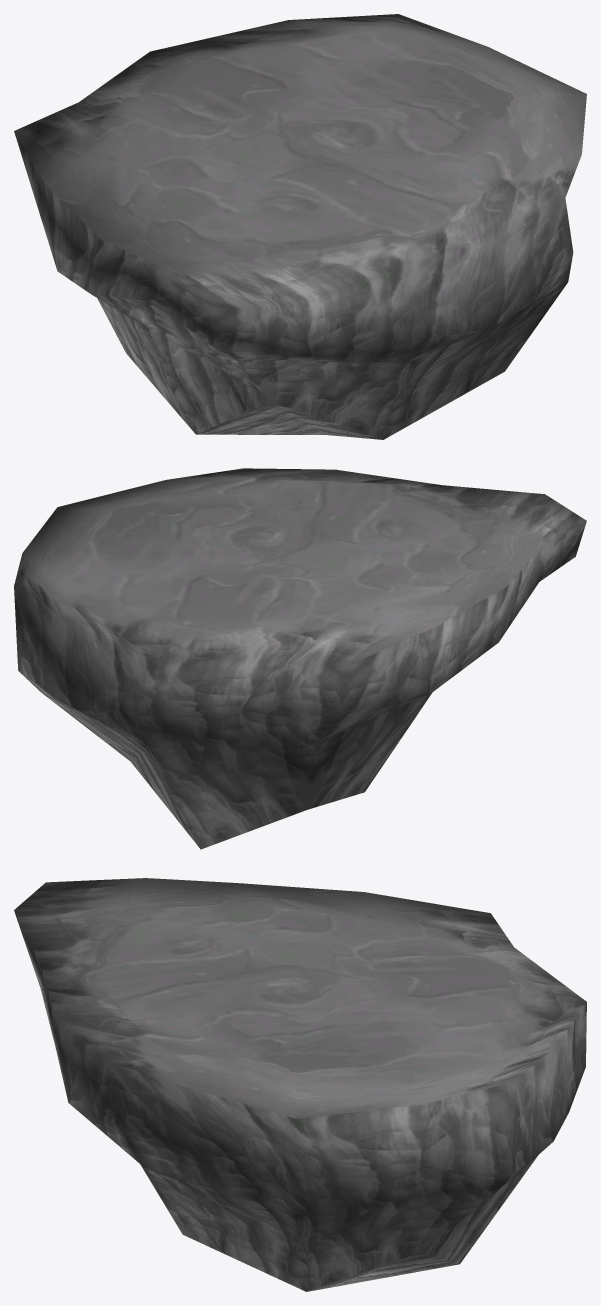
File: INST_SWORDLIGHT_ROCKPLATA.fbx
3 renders of one model, top to bottom at view 1: azimuth 30°, elevation 25°; view 2: azimuth 150°, elevation 25°; view 3: azimuth 270°, elevation 25°, orthographic. The views are drawn at different scales.
Visible parts, largest first — view 1: INST_SWORDLIGHT_ROCKPLATA; view 2: INST_SWORDLIGHT_ROCKPLATA; view 3: INST_SWORDLIGHT_ROCKPLATA.
Boxes of the visible parts, x1,y1,x2,y2 form: INST_SWORDLIGHT_ROCKPLATA: (14, 14, 586, 439); INST_SWORDLIGHT_ROCKPLATA: (14, 468, 586, 849); INST_SWORDLIGHT_ROCKPLATA: (14, 878, 586, 1291).
Size of the model in its own units: 11679 by 6912 by 12241.
3 materials, 3 textured.
